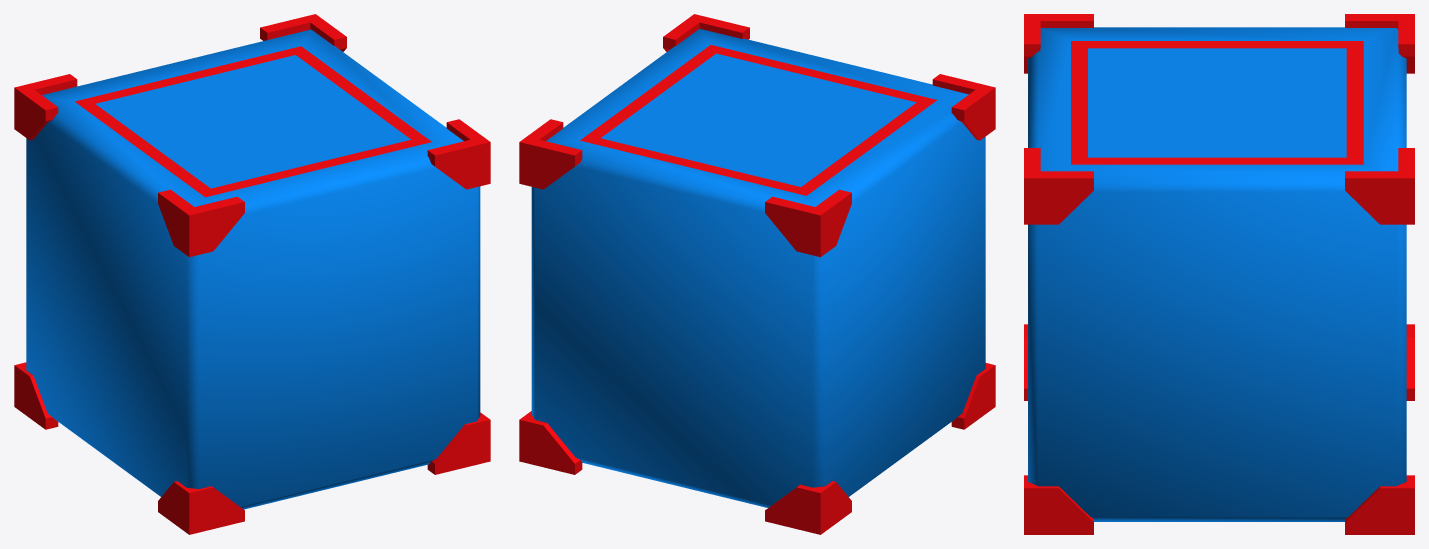
The model's file is MachineBossHurricaneBlock.fbx.
3 renders of one model, left to right at view 1: azimuth 30°, elevation 25°; view 2: azimuth 150°, elevation 25°; view 3: azimuth 270°, elevation 25°, orthographic. The views are drawn at different scales.
Visible parts, largest first — view 1: Cube.000, Cube.001; view 2: Cube.000, Cube.001; view 3: Cube.000, Cube.001.
Boxes of the visible parts, <box> form: Cube.000: <box>26,29,480,509</box>; Cube.001: <box>14,14,490,534</box>; Cube.000: <box>531,28,985,507</box>; Cube.001: <box>519,14,995,534</box>; Cube.000: <box>1028,27,1406,521</box>; Cube.001: <box>1024,14,1414,534</box>.
Bounding box in the file's own units: 30780 × 31189 × 30956.
